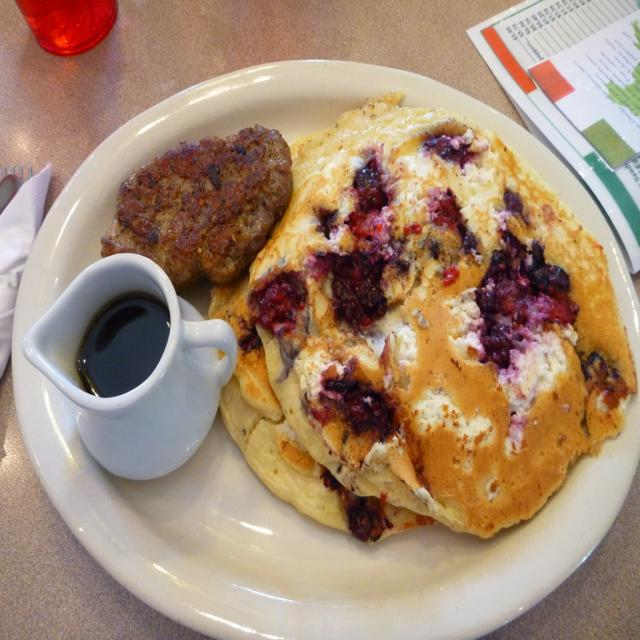Tea: (76, 291, 176, 400)
